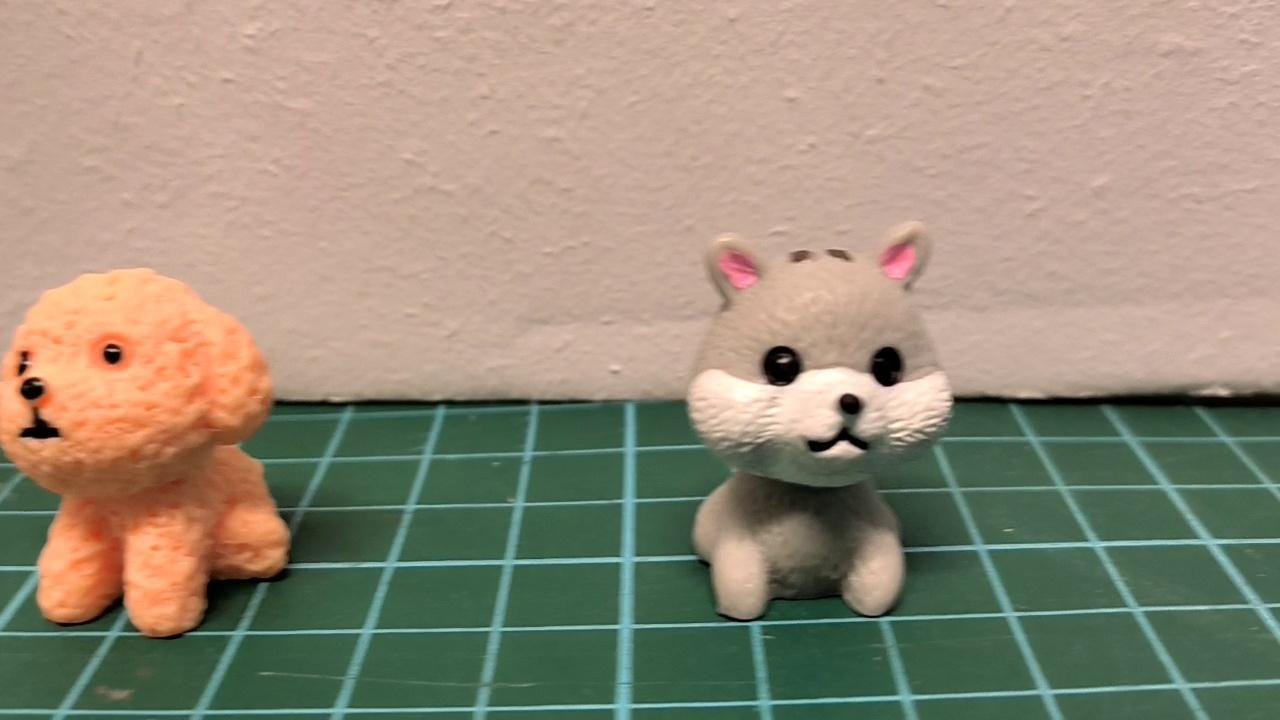pet: (680, 219, 961, 623), (0, 264, 294, 639)
